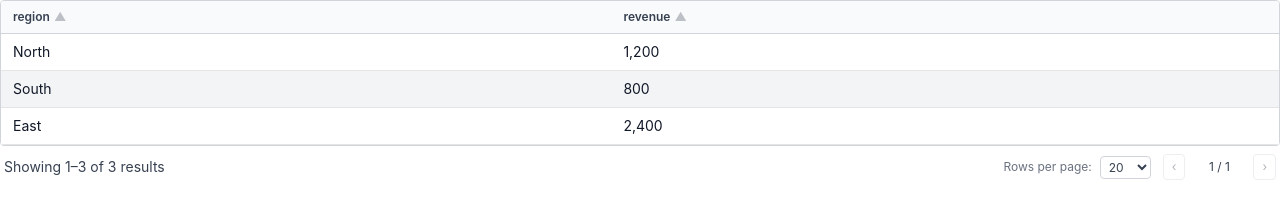
DataTable — sorting › sorts descending on second click
What coordinates should you click on to do the following:
click the column heading "revenue ▲"
I would click on:
 (945, 17)
Its box is 611,1 -> 1279,34.
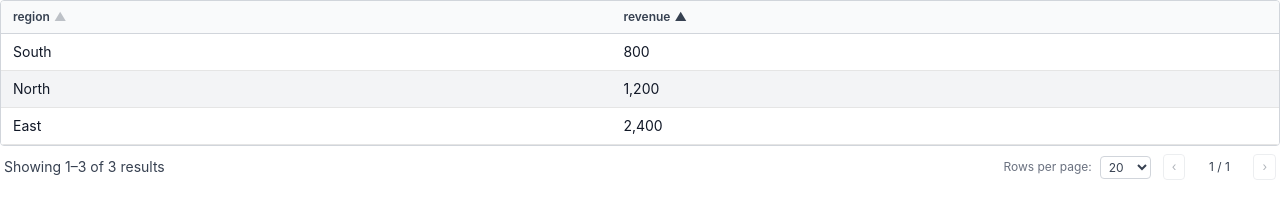
What coordinates should you click on to do the following:
click the column heading "revenue ▲"
I would click on:
 (945, 17)
Its box is 611,1 -> 1279,34.
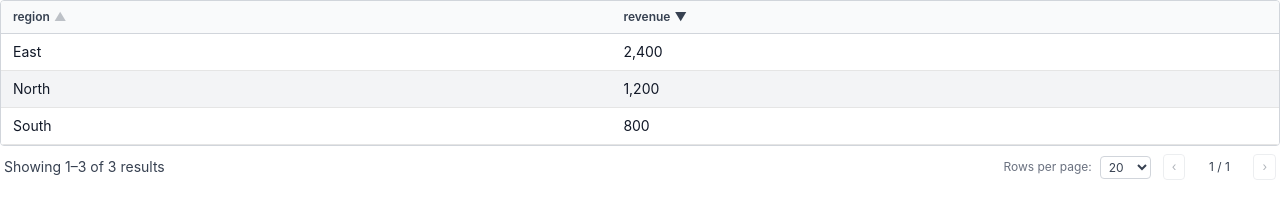
Check: the text "2,400" is shown, box 611,34 -> 1279,70
